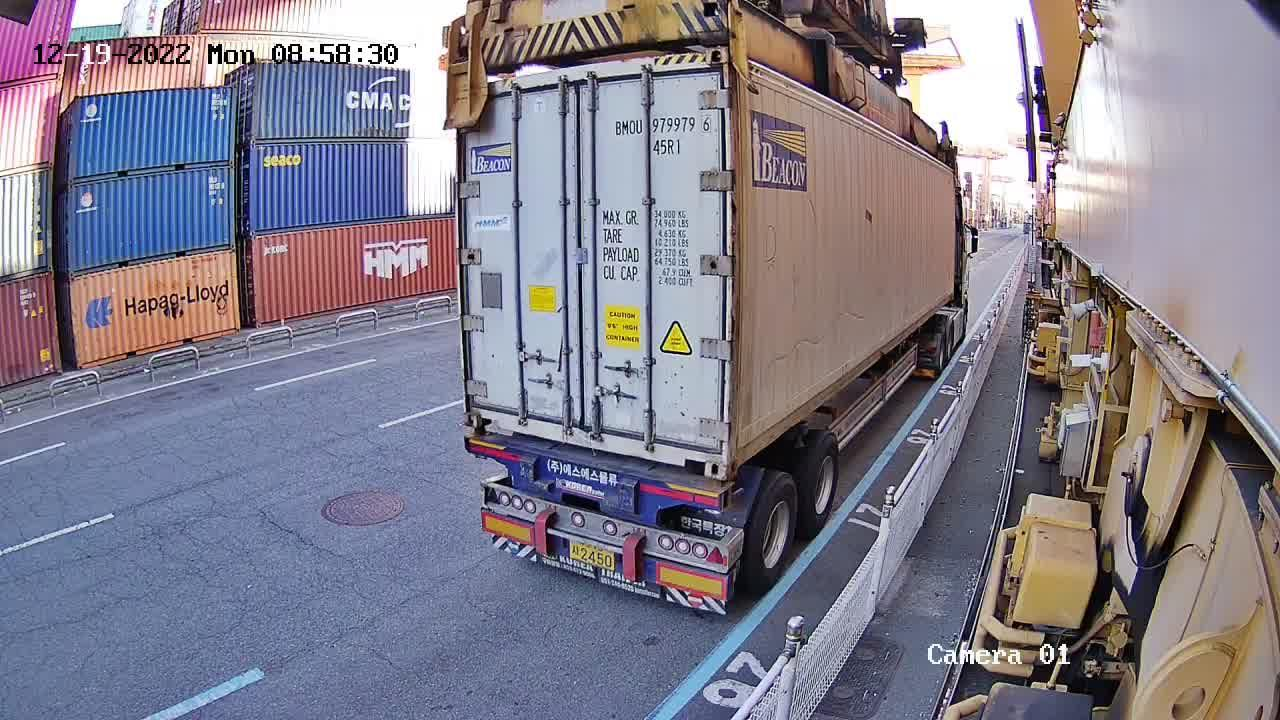Chassis: (468, 432, 727, 521)
Cone: (714, 478, 734, 512), (469, 429, 487, 442)
Hole_L: (726, 412, 760, 480), (465, 384, 509, 434)
Hole_R: (677, 421, 727, 481)
Tire: (749, 476, 800, 585), (803, 431, 840, 532)
